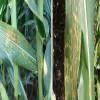Corn rust leaf: (0, 20, 37, 77)
